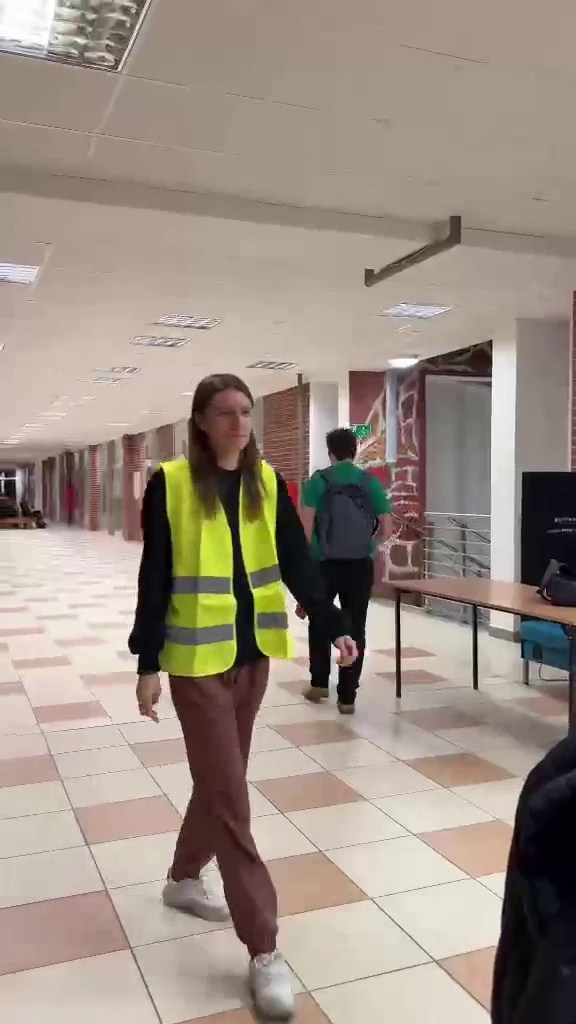no vest: (293, 411, 402, 709)
vest: (131, 363, 300, 975)
